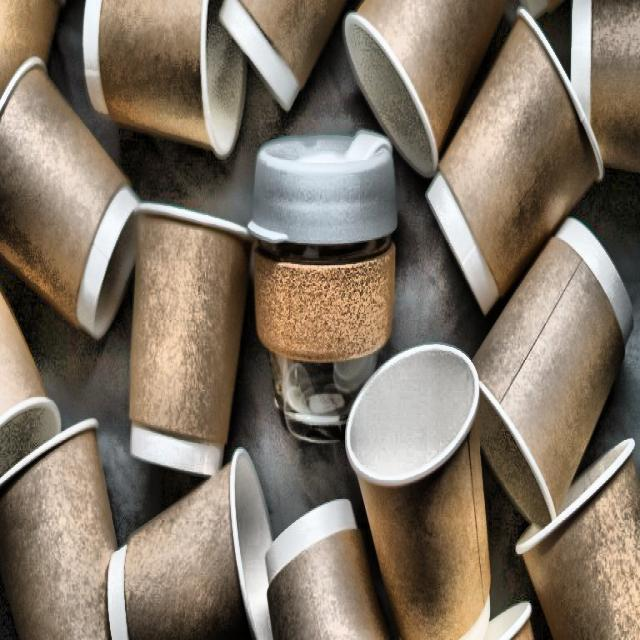Cup: (415, 2, 612, 314), (466, 203, 638, 542), (342, 336, 498, 640), (0, 49, 151, 350), (123, 196, 252, 502), (86, 453, 282, 640)
